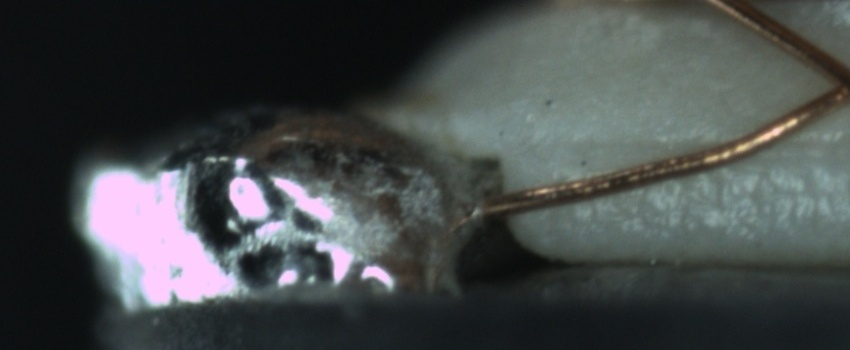CL: (802, 50, 850, 116)
DL: (545, 114, 845, 179)
